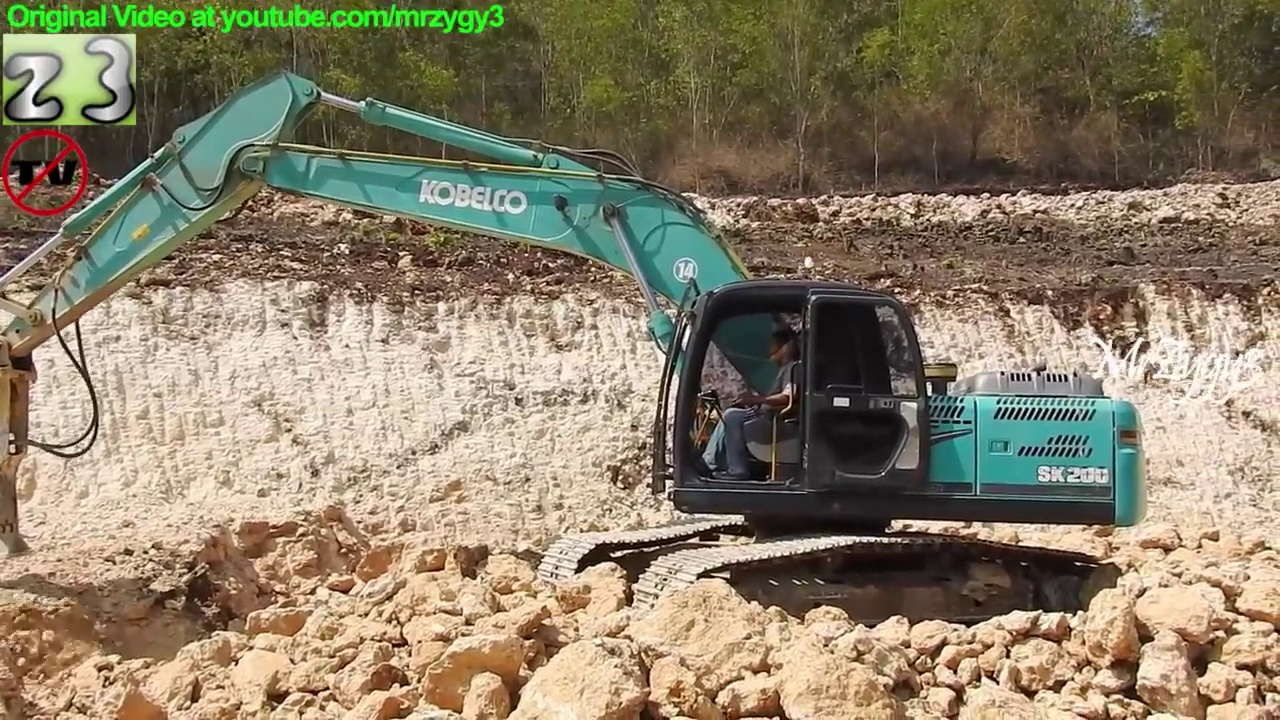excavator breaker: (1, 62, 1154, 637)
